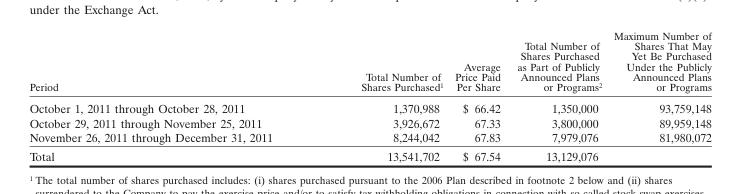table: (28, 28, 710, 163)
table column: (28, 28, 316, 163), (316, 28, 448, 163), (607, 28, 710, 163), (508, 28, 607, 163), (448, 28, 508, 163)
table column header: (28, 28, 710, 97)
table row: (28, 28, 710, 97), (28, 97, 710, 115), (28, 129, 710, 146), (28, 146, 710, 163), (28, 115, 710, 129)
